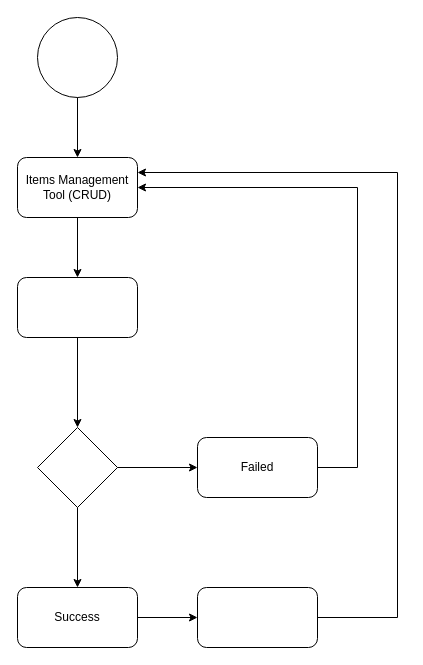
The diagram is 423 pixels wide and 665 high, and some of its shapes have lost their labels. Each missing label, with the box of its shape:
API query: (16, 276, 138, 338)
Refresh: (196, 586, 318, 648)
